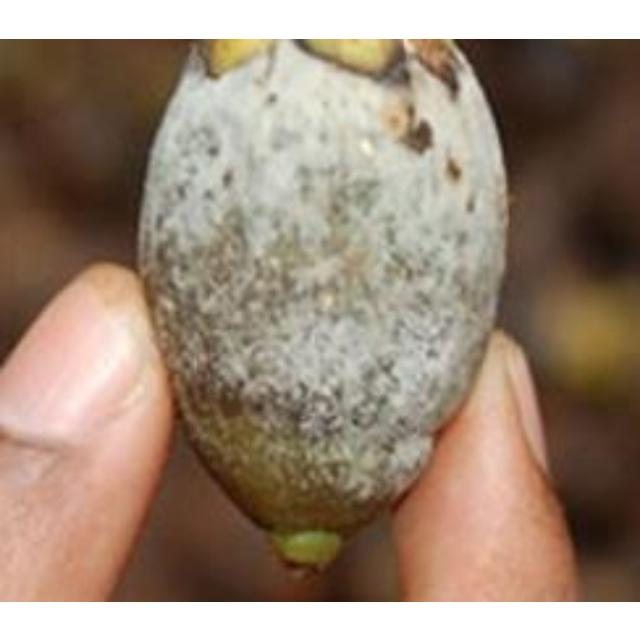damaged: (134, 38, 509, 578)
